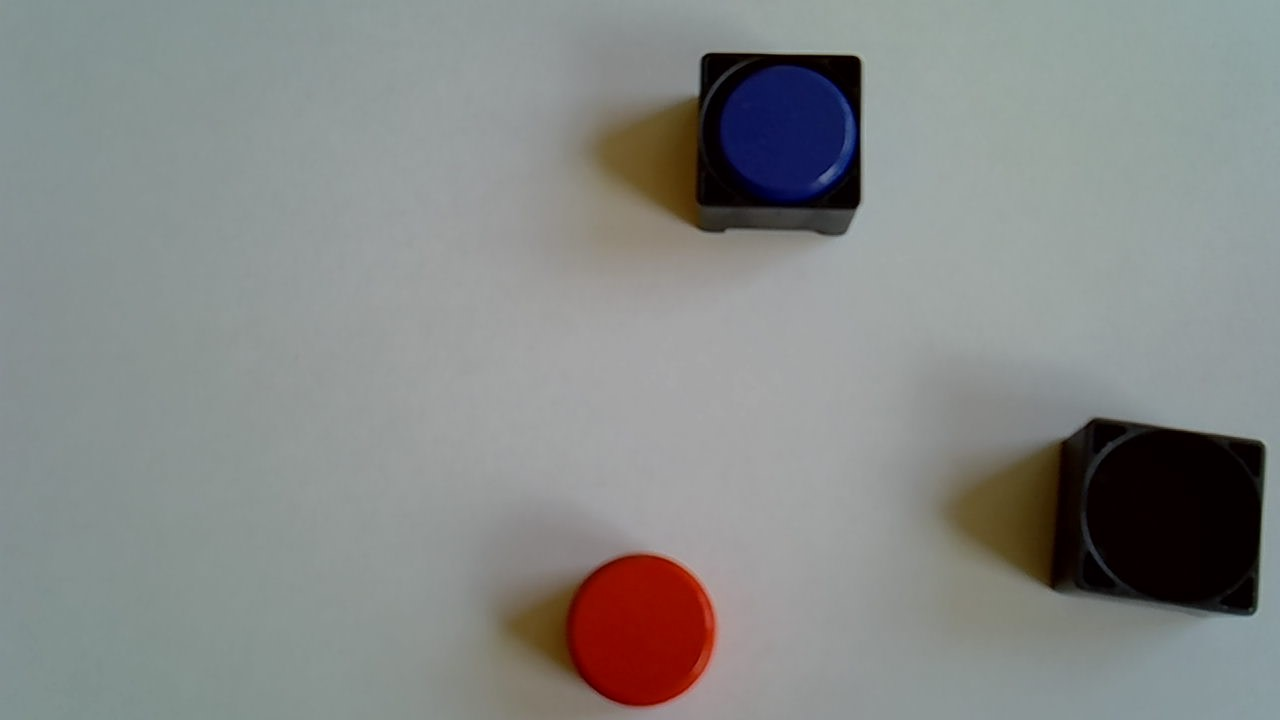Behaelter: (1046, 416, 1266, 624), (693, 52, 866, 238)
WerkStueck: (562, 550, 720, 709), (718, 63, 856, 202)
